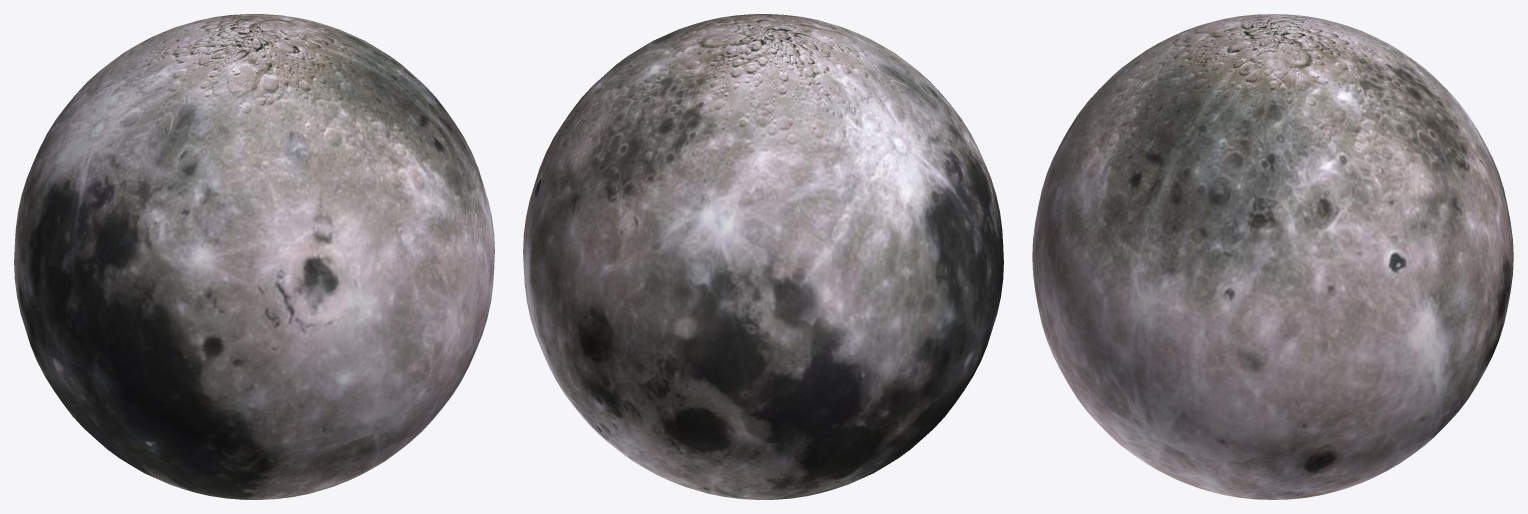
The model's file is xingqiu_01.obj.
3 views of the same model, side by side, from view 1: azimuth 30°, elevation 25°; view 2: azimuth 150°, elevation 25°; view 3: azimuth 270°, elevation 25° (orthographic).
Visible parts, largest first — view 1: xingqiu_01; view 2: xingqiu_01; view 3: xingqiu_01.
Part boxes in pixels (x1,y1,x2,y2): xingqiu_01: (14, 14, 494, 499); xingqiu_01: (523, 14, 1003, 499); xingqiu_01: (1032, 14, 1513, 499).
Bounding box in the file's own units: 11.82 × 11.97 × 11.82.
